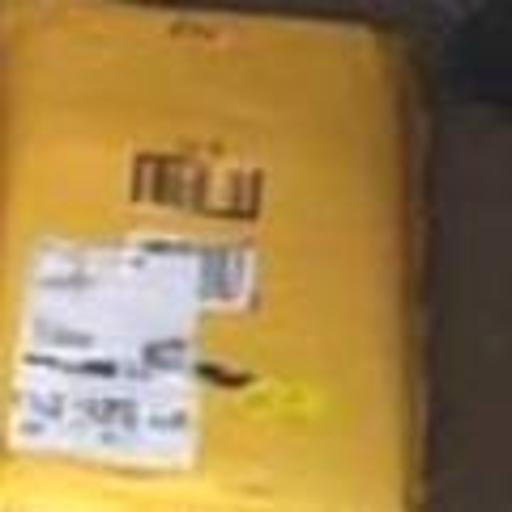Other: (0, 8, 425, 512)
